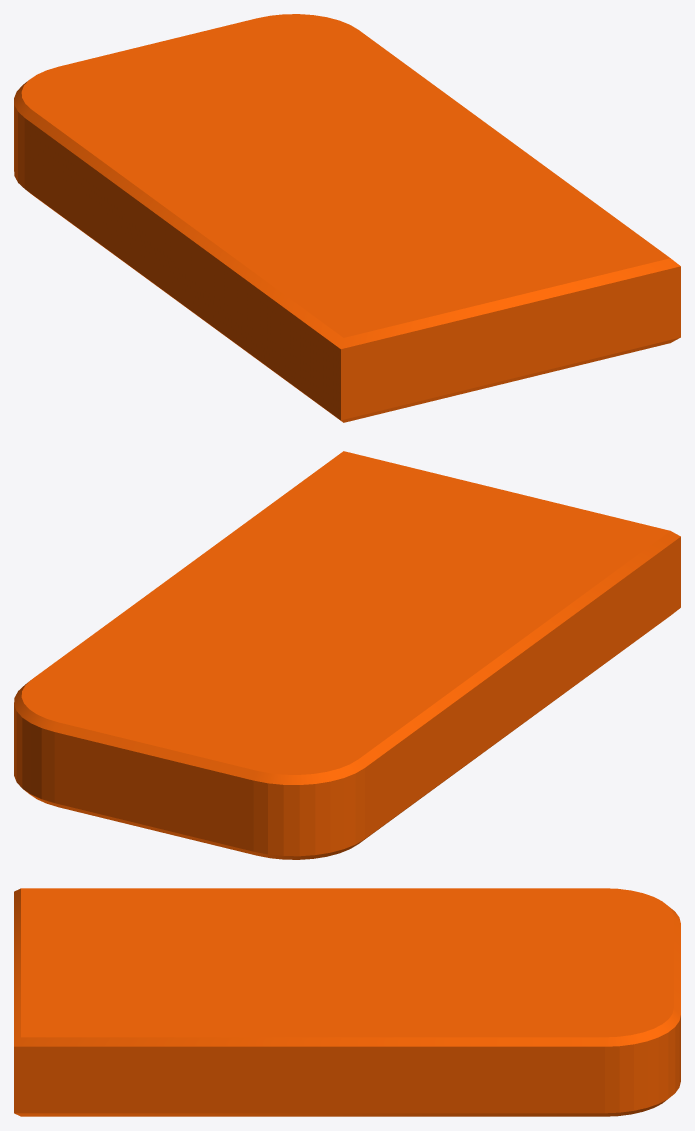
Rendered from side-board-orange.fbx.
The picture shows the model from 3 angles, top to bottom: view 1: azimuth 30°, elevation 25°; view 2: azimuth 150°, elevation 25°; view 3: azimuth 270°, elevation 25°; orthographic projection. The views are drawn at different scales.
Parts seen in each view (by area): view 1: Cube.023; view 2: Cube.023; view 3: Cube.023.
Part boxes in pixels (box(x1,y1,x2,y2)): Cube.023: box(14, 14, 680, 422); Cube.023: box(14, 451, 680, 859); Cube.023: box(14, 888, 680, 1116).
Bounding box in the file's own units: 82.52 × 19.69 × 150.
